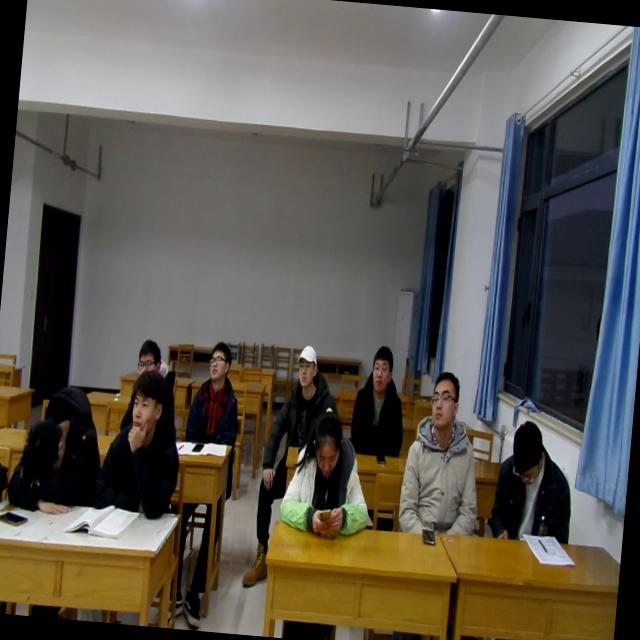bow: (3, 378, 108, 524)
down: (505, 409, 551, 488), (306, 404, 350, 485)
lookup: (125, 366, 166, 444), (424, 366, 466, 431), (365, 338, 399, 401), (130, 332, 165, 382), (290, 338, 321, 388), (205, 339, 233, 386)
sit: (393, 366, 492, 543), (89, 366, 186, 524), (278, 398, 380, 544), (487, 412, 580, 546), (264, 343, 341, 452), (346, 340, 412, 462), (178, 336, 248, 447), (124, 328, 180, 408)
